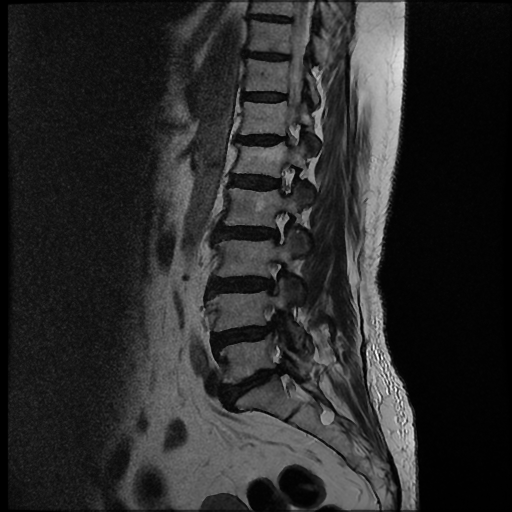LFS0: (262, 154, 308, 203), (258, 204, 301, 251)
LFS1: (250, 254, 290, 304)
